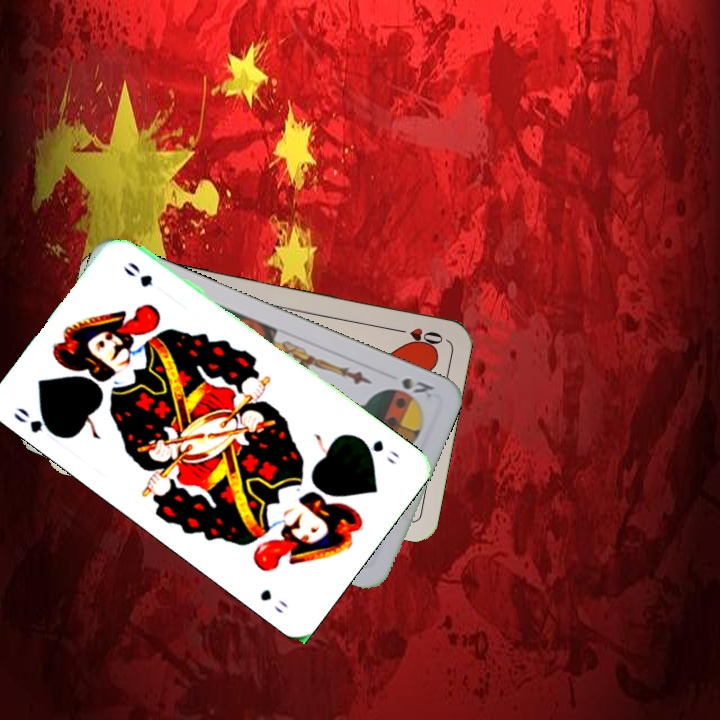GO: (9, 403, 64, 441), (353, 432, 402, 467)
HO: (388, 323, 446, 348)
SK: (397, 373, 437, 402)
